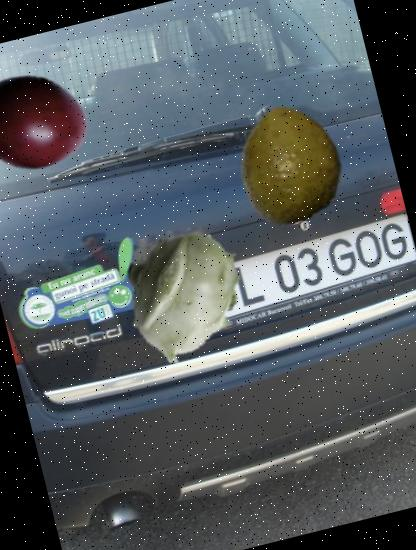Guava: (219, 93, 361, 236)
Kohlrabi: (99, 214, 262, 377)
Tamarillo: (0, 53, 101, 192)
